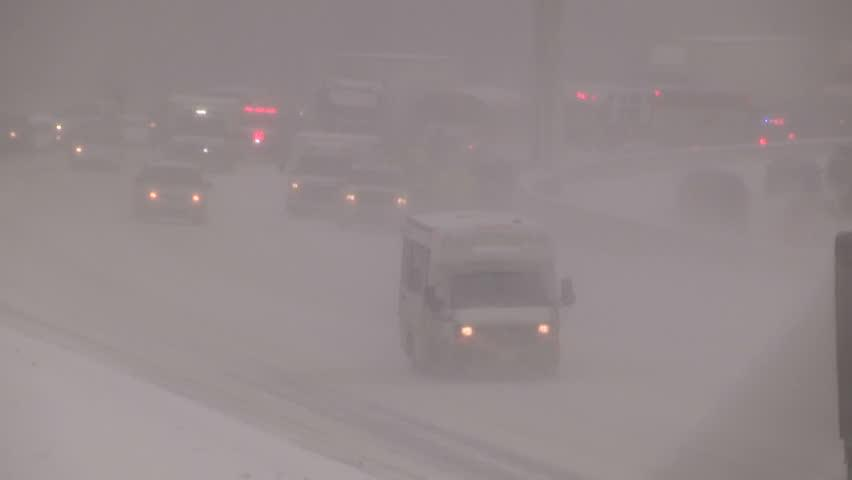airplane: (397, 211, 570, 369)
bicycle: (16, 117, 67, 151)
boat: (397, 211, 570, 369)
bus: (0, 123, 795, 455), (16, 76, 423, 459), (102, 99, 574, 403), (318, 148, 712, 432), (22, 111, 423, 258), (272, 171, 568, 365), (163, 170, 442, 360), (313, 145, 469, 343), (398, 213, 567, 373), (279, 171, 413, 360), (68, 141, 345, 225), (156, 93, 294, 197), (161, 92, 274, 152), (757, 113, 799, 145)
car: (2, 133, 626, 454), (44, 38, 639, 340), (196, 167, 772, 415), (42, 112, 372, 480), (92, 160, 563, 366), (453, 181, 812, 441), (186, 98, 523, 330), (172, 126, 424, 424), (42, 143, 422, 315), (389, 191, 727, 373), (0, 127, 248, 334), (58, 90, 405, 236), (142, 154, 336, 406), (284, 167, 541, 315), (180, 197, 423, 337), (118, 162, 403, 276), (27, 156, 321, 266), (272, 183, 459, 355), (393, 202, 568, 365), (328, 205, 478, 387), (194, 123, 402, 247), (100, 142, 389, 228), (283, 143, 410, 327), (118, 104, 339, 205), (238, 102, 447, 207), (9, 135, 253, 224), (14, 113, 197, 196), (415, 275, 564, 370), (276, 139, 450, 220), (215, 174, 413, 240), (157, 92, 292, 188), (571, 89, 777, 149), (158, 173, 349, 236), (66, 103, 245, 170), (288, 180, 410, 265), (113, 145, 228, 233), (126, 115, 232, 209), (241, 144, 387, 212), (64, 156, 207, 225), (137, 160, 285, 223), (43, 144, 179, 205), (158, 134, 259, 212), (285, 163, 408, 222), (248, 128, 362, 189), (562, 91, 671, 152), (286, 133, 386, 199), (109, 126, 198, 198), (180, 102, 286, 162), (231, 110, 306, 193), (211, 134, 299, 203), (201, 156, 298, 218), (63, 126, 188, 174), (445, 299, 558, 351), (337, 171, 407, 245), (290, 181, 381, 237), (168, 127, 277, 173), (16, 113, 122, 160), (164, 99, 235, 168), (54, 115, 163, 159), (164, 95, 266, 141), (125, 114, 220, 163), (136, 162, 212, 223), (695, 106, 800, 148), (571, 83, 663, 130), (189, 146, 294, 187), (313, 184, 410, 226), (284, 159, 358, 214), (296, 161, 391, 202), (136, 150, 220, 195), (131, 133, 222, 172), (327, 170, 399, 217), (289, 135, 360, 180), (65, 129, 143, 163), (161, 140, 235, 174), (86, 107, 164, 139), (758, 111, 828, 146), (289, 153, 351, 191), (65, 115, 141, 146), (53, 119, 120, 154), (307, 191, 378, 223), (297, 172, 363, 206), (35, 118, 88, 160), (300, 183, 371, 214), (93, 118, 161, 150), (283, 168, 333, 210), (165, 159, 216, 199), (346, 184, 399, 222), (190, 143, 254, 173), (141, 146, 209, 173), (336, 189, 384, 227), (152, 153, 219, 180), (141, 183, 205, 211), (28, 114, 75, 151), (153, 138, 218, 164), (134, 157, 201, 182), (3, 122, 57, 151), (571, 84, 627, 111), (753, 112, 796, 146), (69, 143, 124, 169), (119, 114, 162, 144), (168, 131, 219, 156), (184, 141, 224, 171), (51, 121, 85, 154), (143, 114, 171, 148), (38, 122, 67, 151), (60, 131, 87, 157), (49, 121, 71, 148), (55, 129, 82, 150), (140, 114, 160, 141), (54, 122, 79, 143), (69, 140, 87, 158), (3, 127, 22, 143)
motorcycle: (27, 114, 76, 152)
oven: (17, 126, 628, 454)
parking meter: (52, 142, 586, 444), (113, 70, 425, 415)
person: (13, 103, 477, 394), (397, 213, 561, 373), (423, 279, 446, 318), (143, 115, 159, 144), (51, 121, 67, 146)
traffic light: (15, 122, 591, 389), (164, 95, 266, 141), (207, 100, 287, 154), (751, 109, 799, 167), (242, 102, 279, 154), (756, 113, 798, 145), (241, 106, 267, 143), (574, 88, 603, 115), (245, 125, 271, 153), (768, 123, 800, 145), (247, 118, 268, 146), (242, 103, 280, 117), (240, 105, 254, 136), (562, 276, 575, 306), (574, 89, 598, 105), (781, 119, 797, 142), (755, 133, 776, 147), (249, 128, 266, 145), (756, 133, 770, 153), (649, 86, 665, 102), (786, 128, 801, 144)
train: (0, 123, 795, 455), (394, 215, 563, 369)
truck: (0, 123, 795, 455), (12, 49, 599, 350), (62, 167, 427, 437), (91, 138, 530, 337), (389, 191, 727, 373), (272, 171, 568, 365), (163, 170, 442, 360), (75, 152, 418, 288), (81, 84, 310, 231), (106, 127, 401, 235), (313, 145, 469, 343), (395, 203, 567, 364), (279, 171, 413, 360), (32, 139, 296, 224), (197, 153, 412, 230), (156, 93, 294, 197), (282, 165, 409, 271), (67, 148, 211, 226), (126, 115, 232, 209), (137, 160, 285, 223), (284, 149, 407, 220), (203, 96, 293, 175), (284, 134, 395, 196), (161, 92, 274, 152), (262, 146, 369, 208), (290, 179, 409, 227), (164, 99, 235, 168), (54, 115, 163, 159), (131, 163, 207, 223), (695, 106, 800, 148), (285, 160, 357, 214), (164, 141, 232, 173), (27, 113, 76, 151), (754, 113, 797, 145)
tv: (394, 215, 563, 369), (756, 113, 798, 145)
umbrella: (161, 92, 274, 152)
